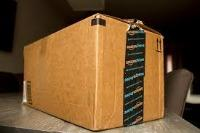undamaged: (17, 9, 165, 131)
